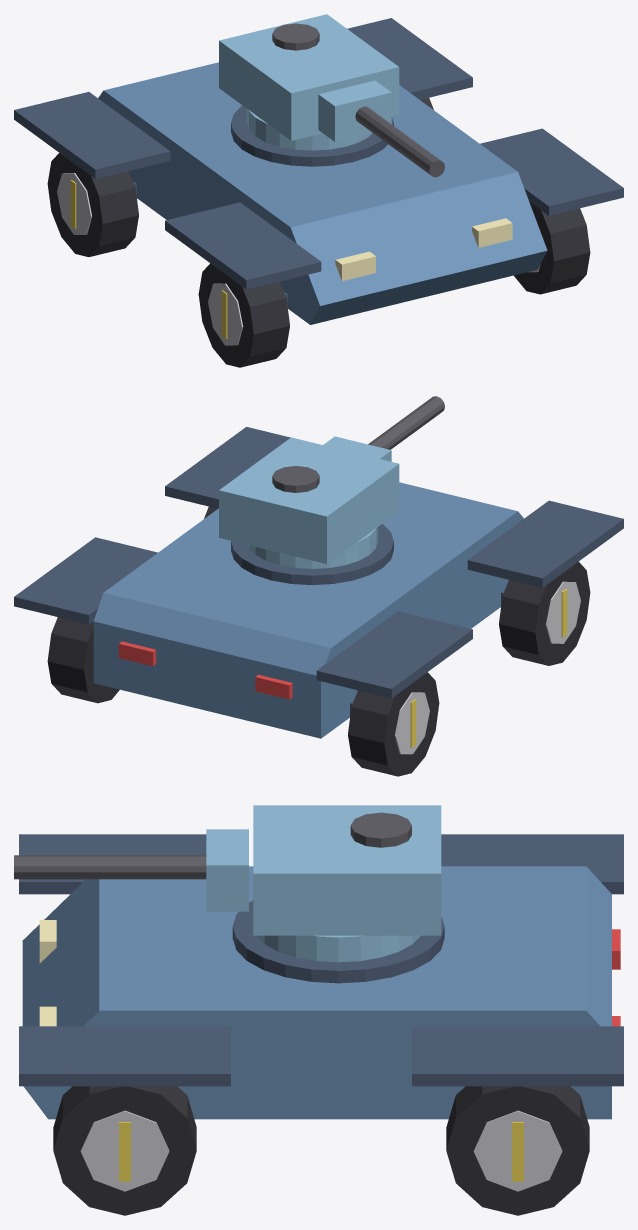
Rendered from BasicHull.fbx.
The picture shows the model from 3 angles, top to bottom: view 1: azimuth 30°, elevation 25°; view 2: azimuth 150°, elevation 25°; view 3: azimuth 270°, elevation 25°; orthographic projection. The views are drawn at different scales.
Visible parts, largest first — view 1: Basic_Hull, Basic_Turret, Wheel_FR, Wheel_RR, Wheel_FL; view 2: Basic_Hull, Basic_Turret, Wheel_FR, Wheel_RR, Wheel_RL; view 3: Basic_Hull, Basic_Turret, Wheel_RL, Wheel_FL.
Boxes of the visible parts, <box> form: Basic_Hull: <box>14,18,623,324</box>; Basic_Turret: <box>219,14,444,177</box>; Wheel_FR: <box>198,263,289,367</box>; Wheel_RR: <box>47,153,138,256</box>; Wheel_FL: <box>514,202,590,294</box>; Basic_Hull: <box>14,427,623,738</box>; Basic_Turret: <box>219,396,444,568</box>; Wheel_FR: <box>499,561,590,665</box>; Wheel_RR: <box>348,672,439,776</box>; Wheel_RL: <box>47,617,119,703</box>; Basic_Hull: <box>19,834,623,1119</box>; Basic_Turret: <box>14,805,441,962</box>; Wheel_RL: <box>446,1086,589,1215</box>; Wheel_FL: <box>53,1086,196,1215</box>.
Size of the model in its own units: 3.32 by 3.57 by 1.83.
